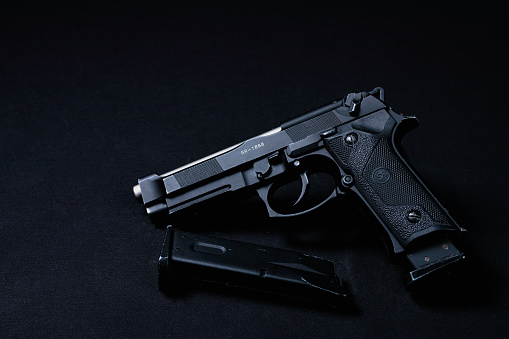gun: (129, 83, 472, 292)
